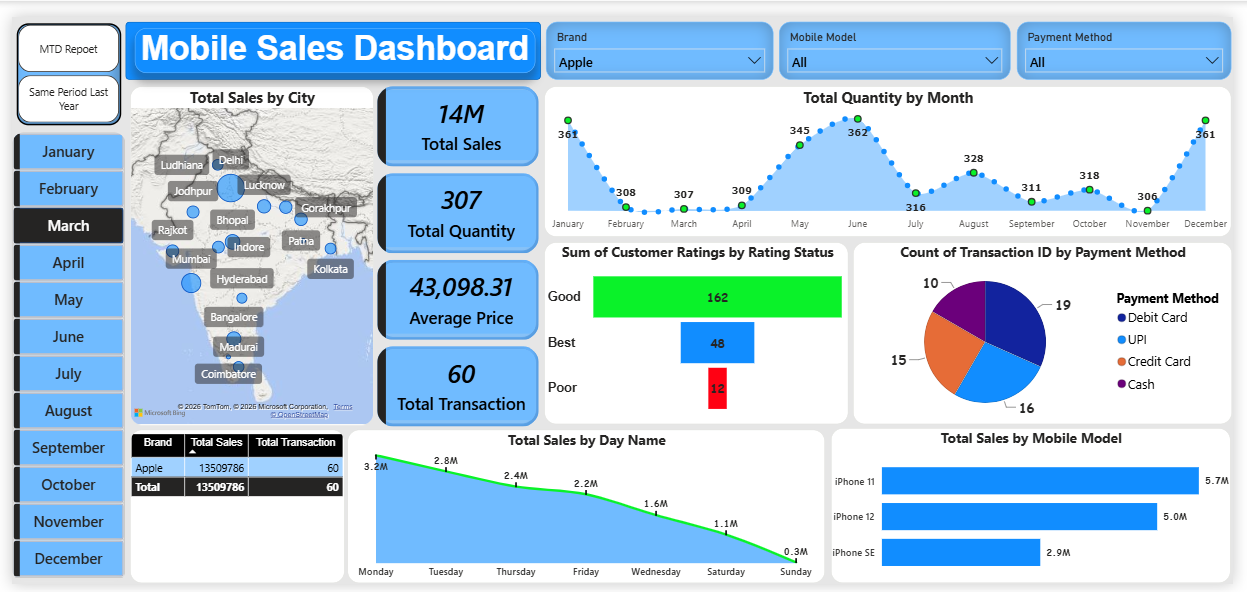

What the dashboard file says about the page in this screenshot:
{"tool":"powerbi","page":{"name":"Dashboard","canvas":[1550,720],"ordinal":0},"visuals":[{"type":"advancedSlicerVisual","fields":{"Values":["custom calender.Date.Variation.Date Hierarchy.Month"]},"box":[0,146.2,144.5,571.3],"z":0},{"type":"cardVisual","fields":{"Data":["mobile sales data.Total Sales","mobile sales data.Total Quantity","mobile sales data.Average Price","mobile sales data.Total Transaction"]},"box":[460.4,84,213.4,440.3],"z":1000},{"type":"slicer","fields":{"Values":["mobile sales data.Mobile Model"]},"box":[974.6,6.7,294.1,73.9],"z":2000},{"type":"slicer","fields":{"Values":["mobile sales data.Payment Method"]},"box":[1275.4,6.7,272.2,73.9],"z":3000},{"type":"slicer","fields":{"Values":["mobile sales data.Brand"]},"box":[678,6.7,289,73.9],"z":4000},{"type":"map","fields":{"Category":["mobile sales data.City"],"Size":["mobile sales data.Total Sales"]},"box":[149.6,87.4,309.2,430.2],"z":5000},{"type":"lineChart","fields":{"Category":["custom calender.Date.Variation.Date Hierarchy.Month"],"Y":["mobile sales data.Total Quantity"]},"box":[675.9,87.9,872.4,191.4],"z":6000},{"type":"funnel","fields":{"Category":["mobile sales data.Rating Status"],"Y":["Sum(mobile sales data.Customer Ratings)"]},"box":[675.9,286.2,386.2,231],"z":7000},{"type":"pieChart","fields":{"Y":["CountNonNull(mobile sales data.Transaction ID)"],"Category":["mobile sales data.Payment Method"]},"box":[1067.2,286.2,481,231],"z":8000},{"type":"clusteredBarChart","fields":{"Category":["mobile sales data.Mobile Model"],"Y":["mobile sales data.Total Sales"]},"box":[1040.2,522.6,507.5,196.6],"z":9000},{"type":"areaChart","fields":{"Y":["mobile sales data.Total Sales"],"Category":["custom calender.Day Name"]},"box":[426.8,524.3,606.6,194.9],"z":10000},{"type":"tableEx","fields":{"Values":["mobile sales data.Brand","mobile sales data.Total Sales","mobile sales data.Total Transaction"]},"box":[149.6,524.3,272.2,194.9],"z":11000},{"type":"pageNavigator","box":[5,8.4,132.7,129.4],"z":13000},{"type":"shape","box":[144.5,6.7,527.6,73.9],"z":14000},{"type":"textbox","box":[155.2,13,508.6,56.9],"z":15000}]}

Visuals, with their boxes in screenshot pixels (x1, y1, x2, y2), scaled from the page's 1550x720 canvas onto the 1247x592 screenshot:
advancedSlicerVisual - custom calender.Date.Variation.Date Hierarchy.Month: box(0, 120, 116, 590)
cardVisual - mobile sales data.Total Sales x mobile sales data.Total Quantity: box(370, 69, 542, 431)
slicer - mobile sales data.Mobile Model: box(784, 6, 1021, 66)
slicer - mobile sales data.Payment Method: box(1026, 6, 1245, 66)
slicer - mobile sales data.Brand: box(545, 6, 778, 66)
map - mobile sales data.City x mobile sales data.Total Sales: box(120, 72, 369, 426)
lineChart - custom calender.Date.Variation.Date Hierarchy.Month x mobile sales data.Total Quantity: box(544, 72, 1246, 230)
funnel - mobile sales data.Rating Status x Sum(mobile sales data.Customer Ratings): box(544, 235, 854, 425)
pieChart - CountNonNull(mobile sales data.Transaction ID) x mobile sales data.Payment Method: box(859, 235, 1246, 425)
clusteredBarChart - mobile sales data.Mobile Model x mobile sales data.Total Sales: box(837, 430, 1245, 591)
areaChart - mobile sales data.Total Sales x custom calender.Day Name: box(343, 431, 831, 591)
tableEx - mobile sales data.Brand x mobile sales data.Total Sales: box(120, 431, 339, 591)
pageNavigator: box(4, 7, 111, 113)
shape: box(116, 6, 541, 66)
textbox: box(125, 11, 534, 57)
